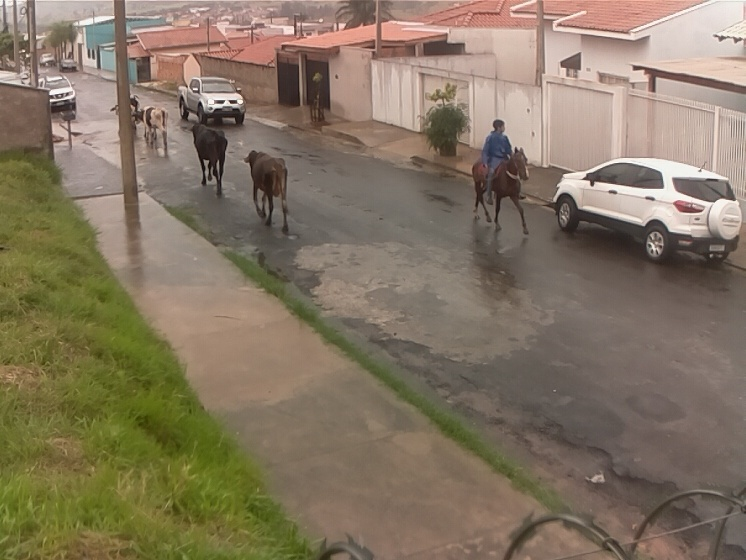person: (480, 117, 519, 209)
